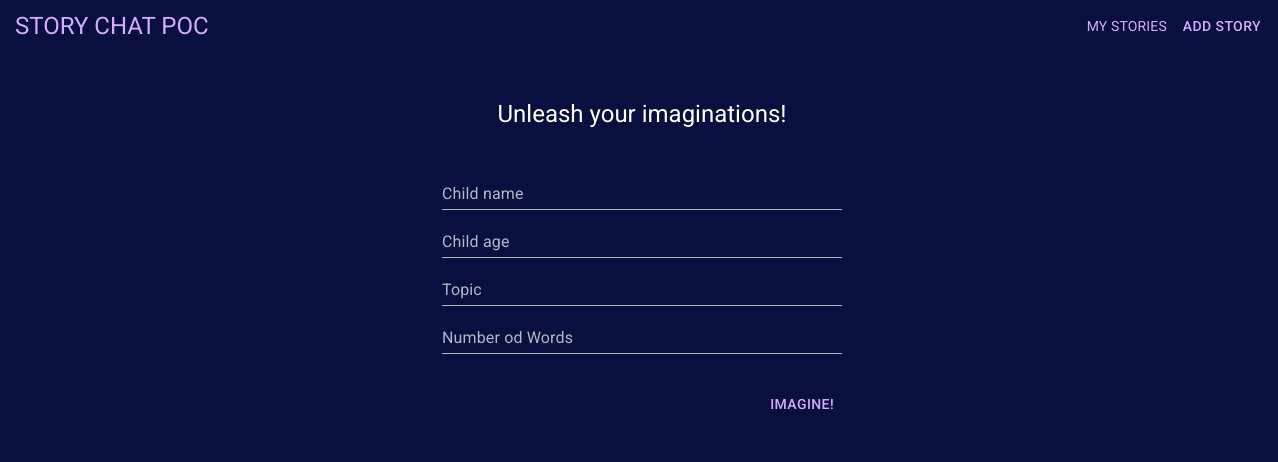
AddStory › Should show error, when a "Child age" field is not a number
In the field labelled "Child name": (642, 194) 442,178 -> 842,210, type "Namo Mandos"
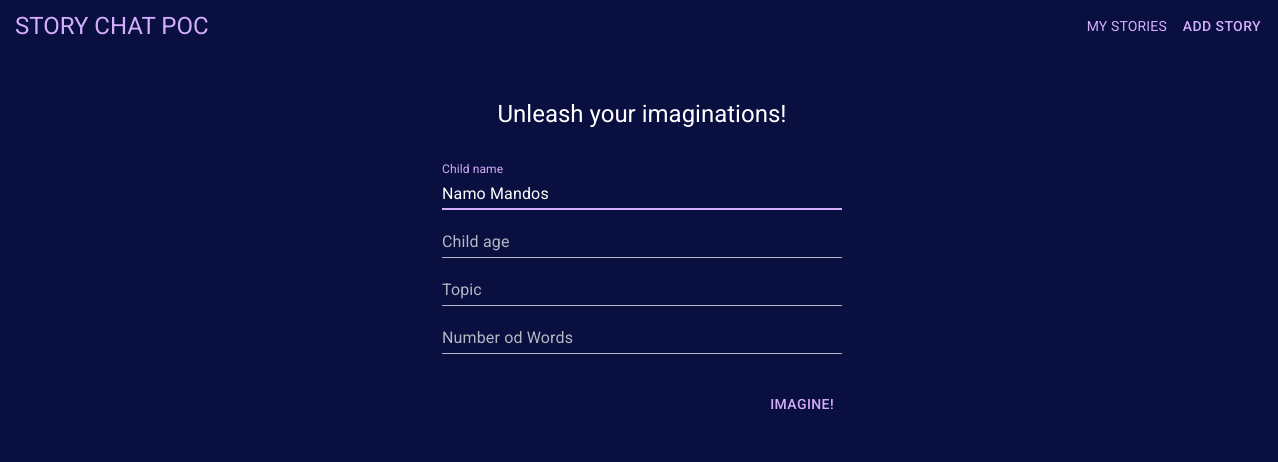
In the field labelled "Child age": (642, 242) 442,226 -> 842,258, type "only six"
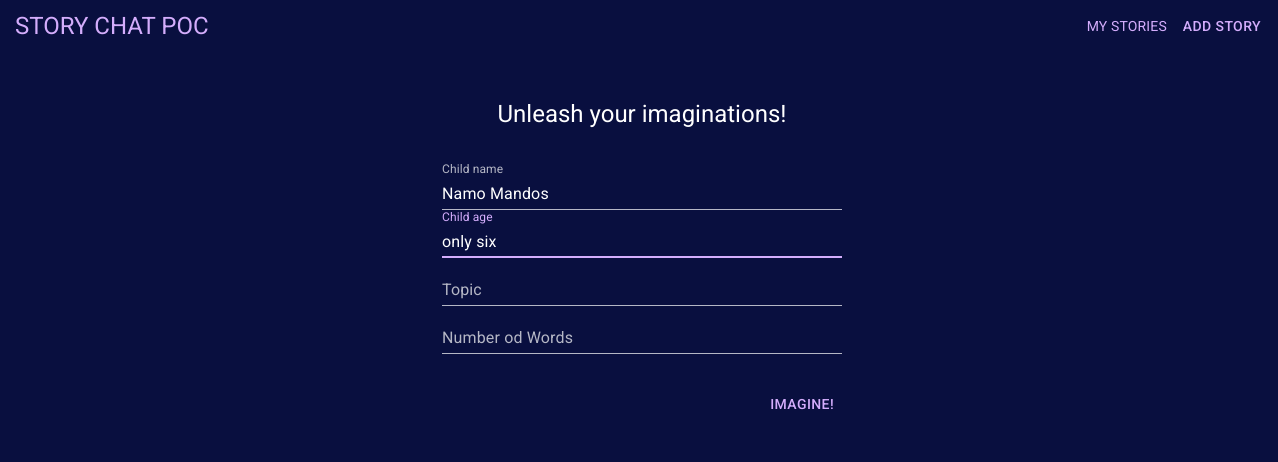
In the field labelled "Topic": (642, 290) 442,274 -> 842,306, type "Halls of Mandos, doom, Noldors"
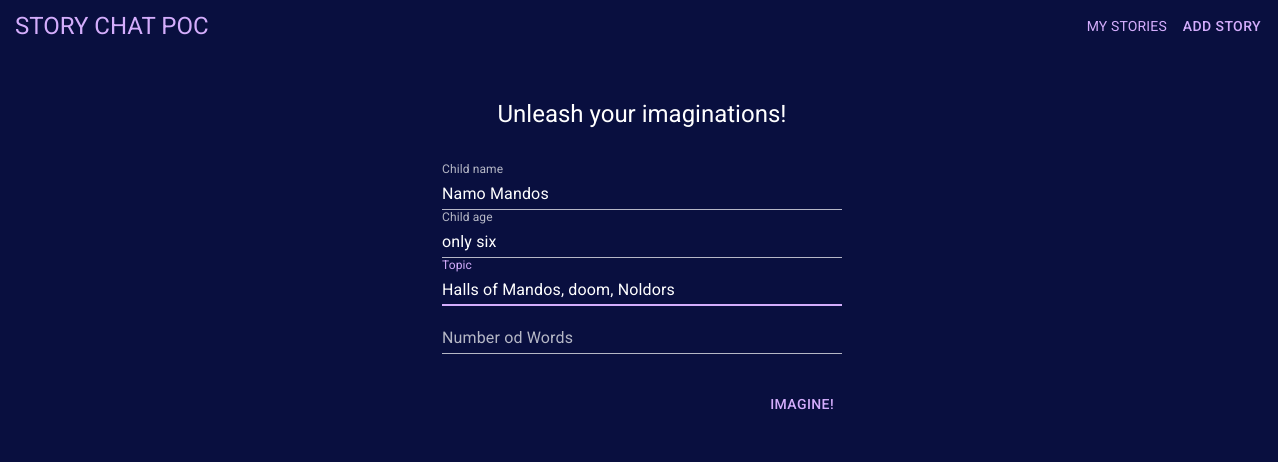
In the field labelled "Number od Words": (642, 338) 442,322 -> 842,354, type "68"
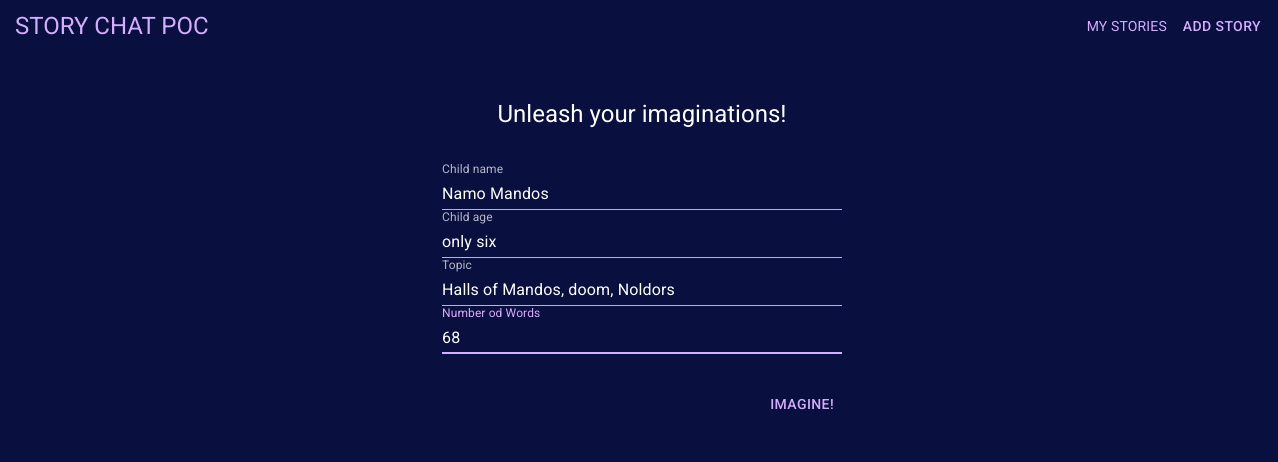
Click the button "Imagine!": (802, 405) 762,386 -> 842,423
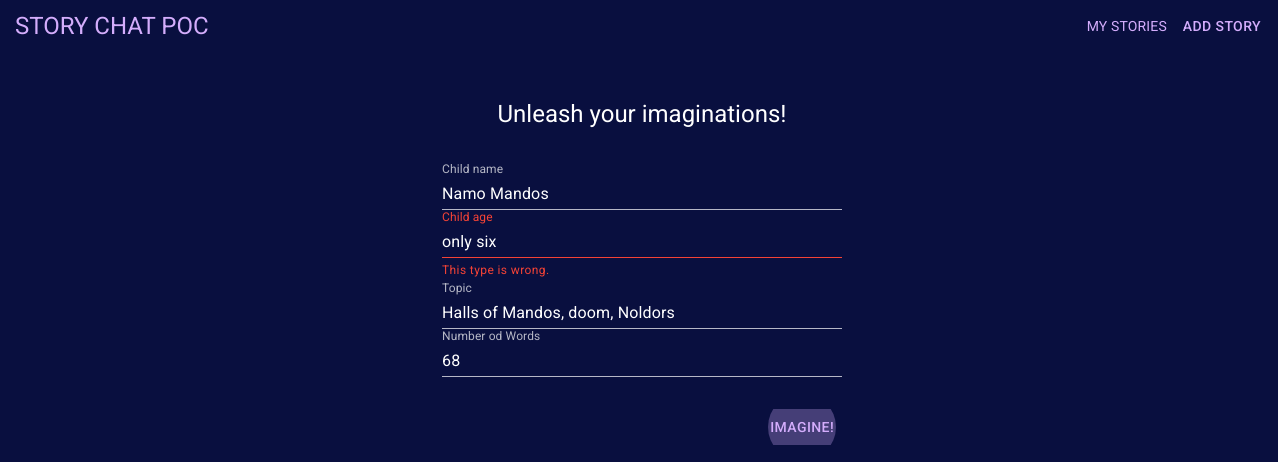
Expected: the text "This type is wrong" is shown, 442,263 -> 550,277
